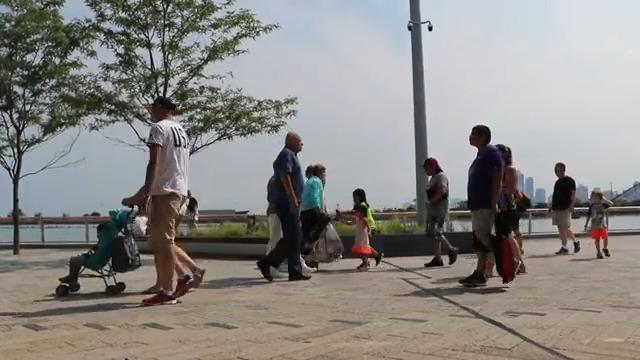no-helmet: (149, 95, 177, 122), (469, 124, 491, 147), (284, 131, 305, 153), (421, 157, 443, 177)
